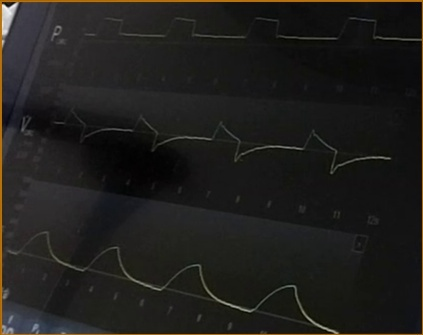Normal Flow: (54, 95, 389, 175)
Normal Volume: (9, 227, 339, 334)
